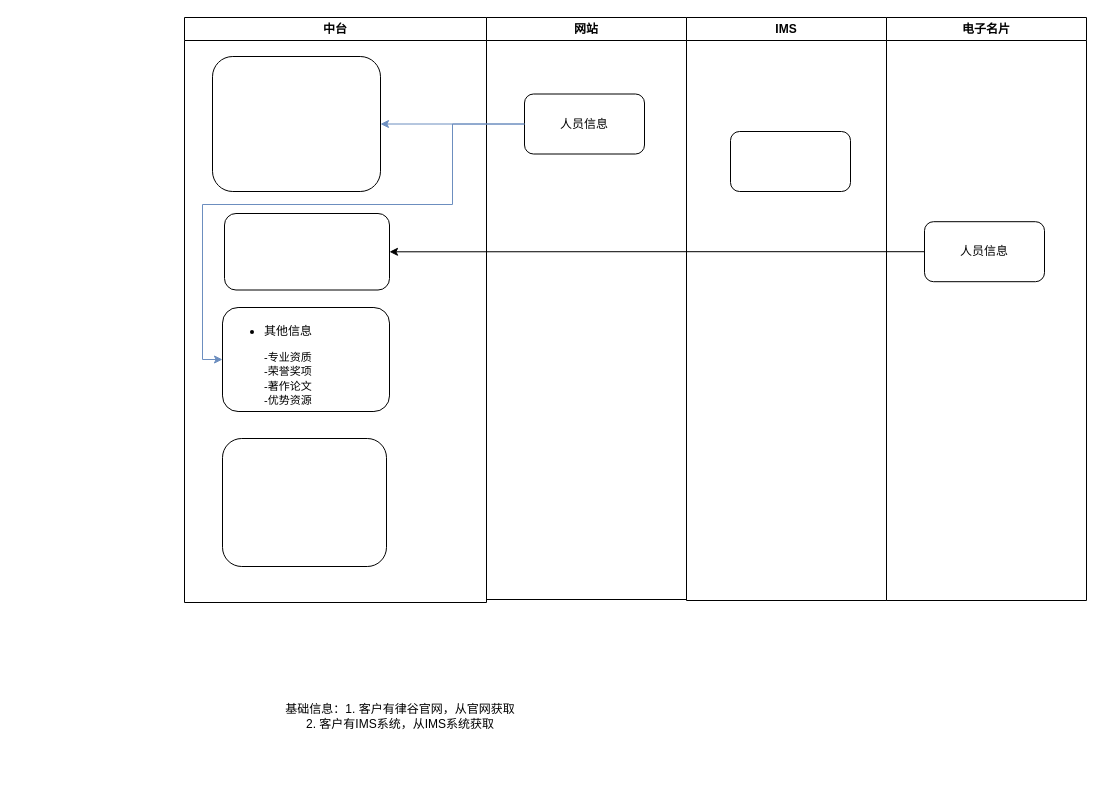
Some shapes in this 1104 by 787 pixel diagram are drawn without their labels. The centre of each missing label's shape, as x and y in pixels:
"人事管理" belongs at point (790, 161).
"代表业绩 -专业委员会 - 行业委员会 合作案件" belongs at point (304, 502).
"基础信息 -个人简介 - 教育背景 - 工作经历 -社会职务" belongs at point (296, 124).
"基础信息 -电子名片二维码" belongs at point (307, 251).
